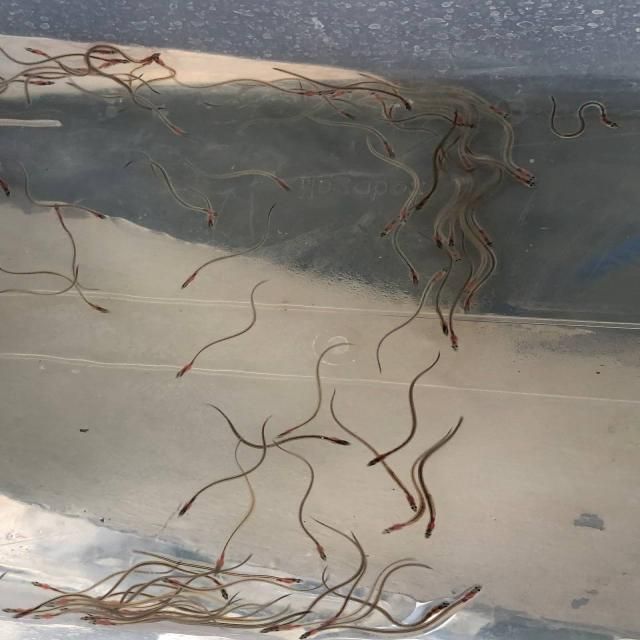glass_eel: (455, 585, 485, 606), (516, 170, 542, 192), (316, 433, 354, 447), (170, 358, 195, 379), (161, 122, 190, 140), (399, 264, 421, 287), (20, 75, 61, 87), (425, 268, 447, 290), (459, 157, 483, 176), (364, 450, 389, 468), (26, 608, 58, 622), (379, 142, 400, 163), (316, 543, 336, 565), (41, 599, 76, 611), (274, 178, 296, 197), (180, 271, 202, 290), (154, 575, 186, 588), (76, 610, 108, 623), (259, 624, 293, 636), (511, 166, 538, 181), (404, 494, 424, 514), (208, 555, 228, 575), (433, 596, 453, 616), (322, 608, 342, 628), (412, 194, 434, 212), (20, 45, 52, 57), (476, 228, 495, 248), (197, 204, 224, 218), (462, 277, 483, 295), (275, 424, 302, 438), (396, 207, 415, 226), (87, 301, 111, 316), (424, 519, 441, 540), (275, 575, 304, 587), (445, 248, 463, 267), (217, 583, 236, 601), (177, 499, 193, 520), (378, 524, 405, 536), (598, 117, 621, 131), (438, 315, 452, 338), (0, 180, 16, 200), (105, 56, 129, 69), (448, 335, 462, 357), (0, 605, 28, 616), (83, 620, 121, 628), (333, 108, 358, 120), (147, 54, 168, 68), (89, 47, 118, 57), (296, 90, 325, 100), (448, 120, 477, 130), (97, 59, 121, 71), (490, 108, 514, 120), (27, 580, 53, 591), (134, 53, 162, 63), (378, 222, 398, 236), (369, 91, 388, 105), (335, 89, 358, 100), (298, 630, 322, 640), (401, 98, 415, 115), (48, 202, 62, 219), (204, 214, 216, 233), (446, 234, 460, 250), (90, 211, 110, 222), (435, 232, 445, 252), (463, 294, 474, 312)
